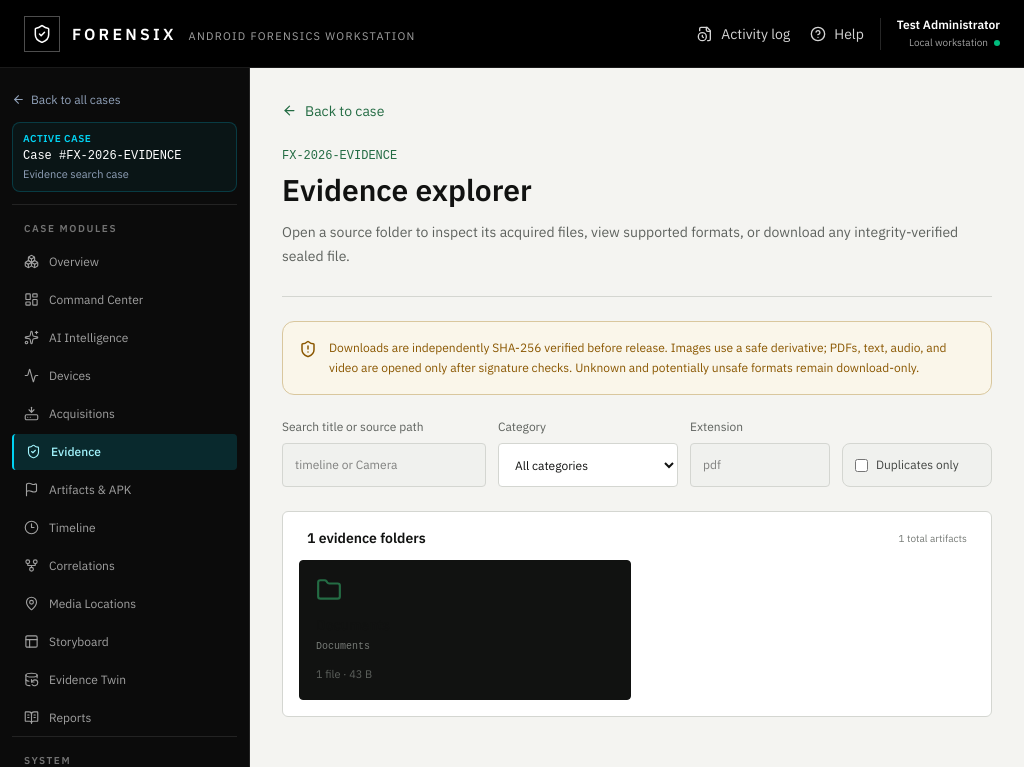
it: evidence explorer › searches normalized metadata and shows provenance without rendering content
The image size is (1024, 767).
Expected: the heading "Evidence explorer" is shown, [282,170,532,209]
Expected: the heading "1 evidence folders" is shown, [307,528,426,548]
Click the button "Documents Documents 1 file · 43 B". click: [353, 625]
box: [299,560,631,700]
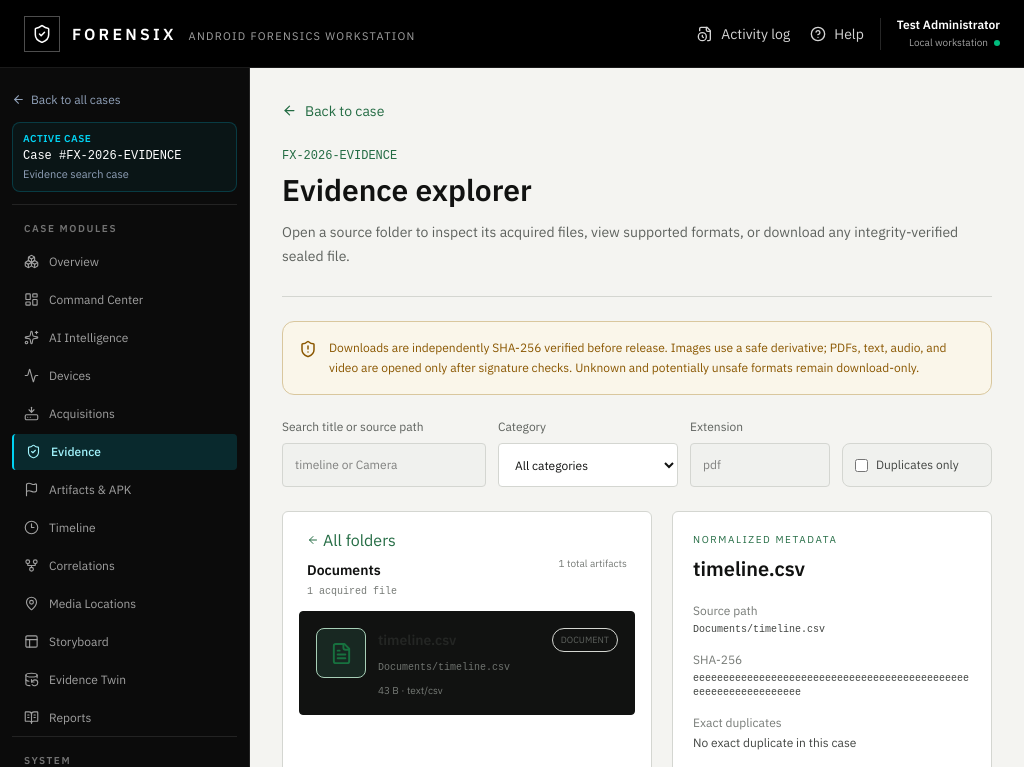
Expected: the text "Downloads are independently SHA-256 verified" is shown, [329,340,946,375]
Result: the text "Documents/timeline.csv" below "total artifacts" is shown at [378,662,510,672]
Result: the text "SHA-256" is shown at [693,652,742,667]
